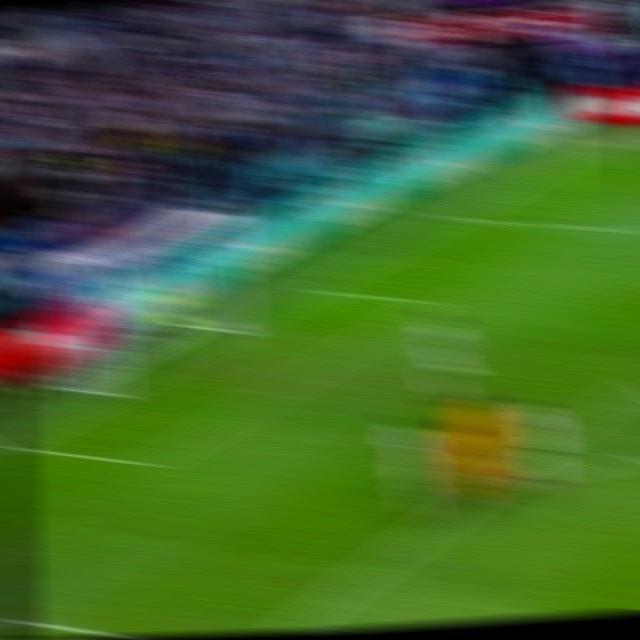bigarea_top_outter: (433, 203, 472, 228)
corner: (579, 130, 621, 150)
smallarea_bottom_inner: (125, 442, 173, 482)
smallarea_bottom_outter: (0, 429, 30, 460)
smallarea_top_inner: (411, 287, 453, 314)
smallarea_top_outter: (292, 277, 331, 302)
